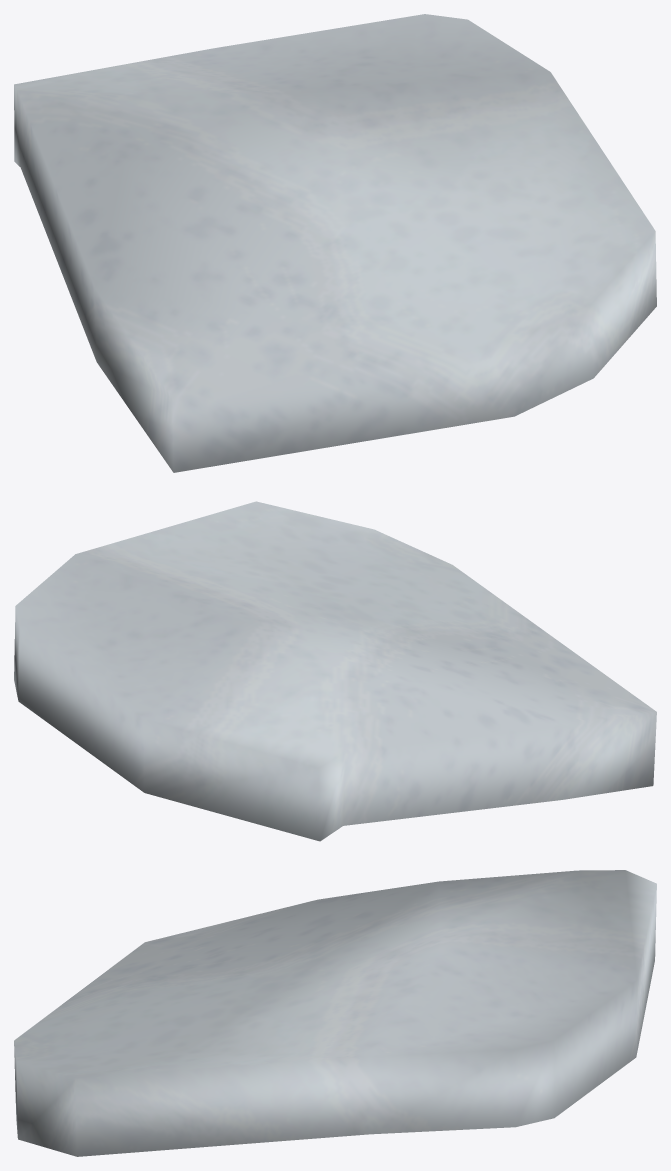
The model's file is Rock_5_Snow.fbx.
3 views of the same model, one above another, from view 1: azimuth 30°, elevation 25°; view 2: azimuth 150°, elevation 25°; view 3: azimuth 270°, elevation 25° (orthographic). The views are drawn at different scales.
Parts seen in each view (by area): view 1: Rock_5_Snow; view 2: Rock_5_Snow; view 3: Rock_5_Snow.
Boxes of the visible parts, bbox=[...] form: Rock_5_Snow: bbox=[14, 14, 656, 472]; Rock_5_Snow: bbox=[14, 501, 656, 841]; Rock_5_Snow: bbox=[14, 870, 656, 1156].
Size of the model in its own units: 181 by 72.91 by 204.
